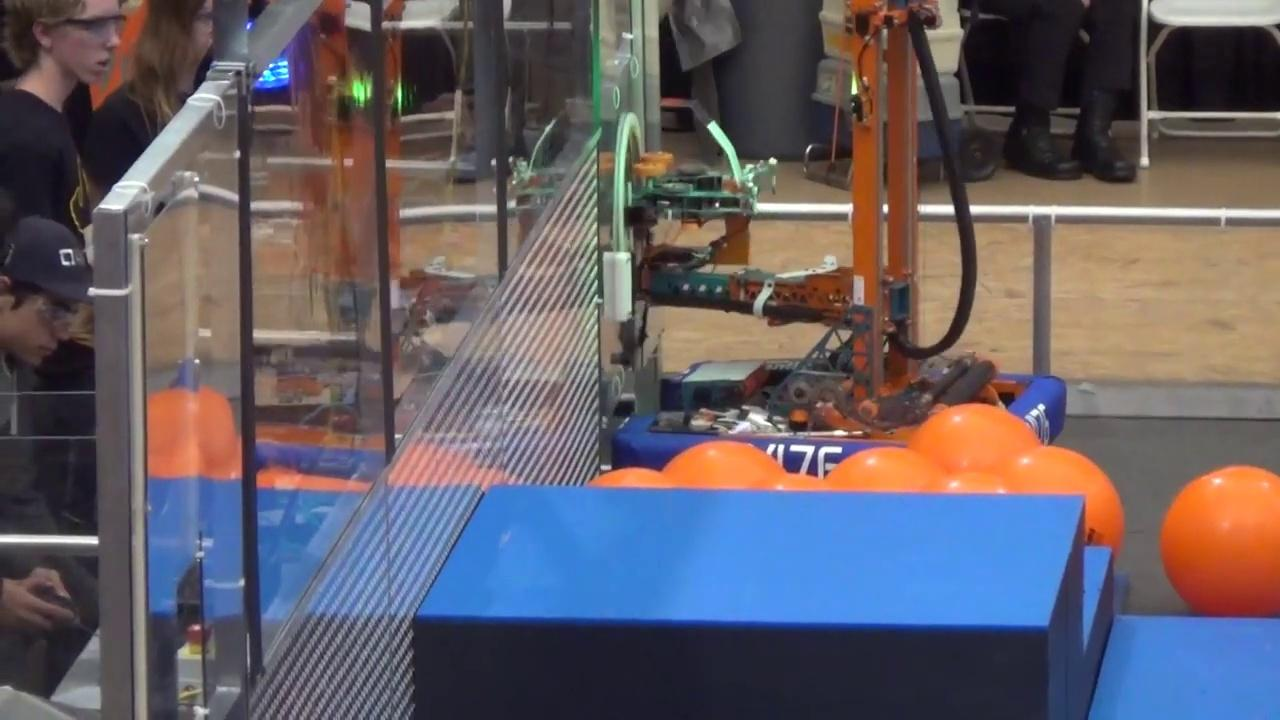robot: (600, 0, 1071, 480)
